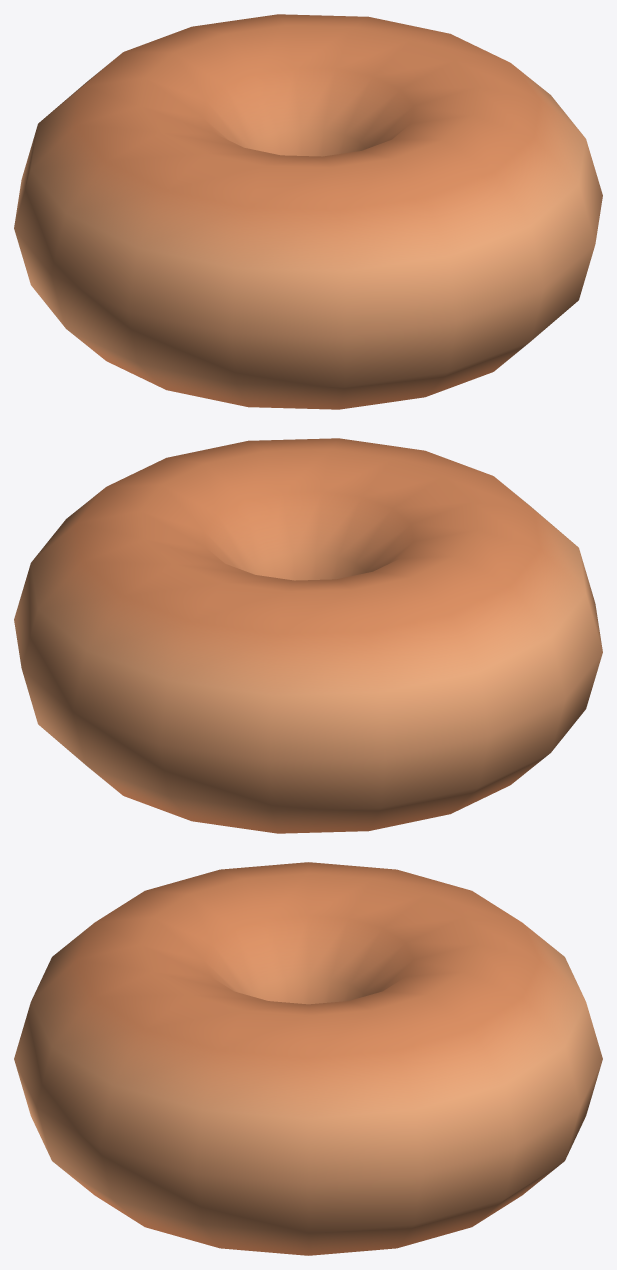
Rendered from donut.obj.
3 renders of one model, top to bottom at view 1: azimuth 30°, elevation 25°; view 2: azimuth 150°, elevation 25°; view 3: azimuth 270°, elevation 25°, orthographic.
Visible parts, largest first — view 1: donut; view 2: donut; view 3: donut.
Boxes of the visible parts, x1,y1,x2,y2 form: donut: (14,14,602,409); donut: (14,438,602,833); donut: (14,862,602,1255).
Bounding box in the file's own units: 0.4196 × 0.1798 × 0.4196.
1 material, 1 textured.
